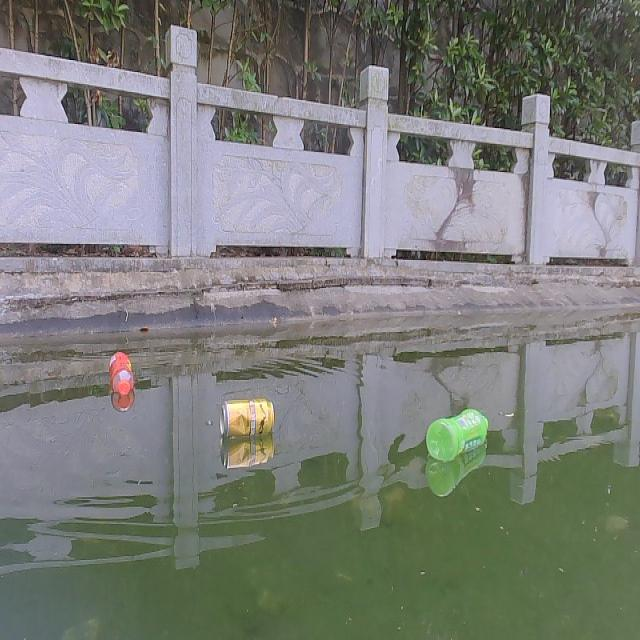Bottle: (424, 408, 489, 460), (107, 348, 133, 400)
Can: (218, 396, 274, 435)
